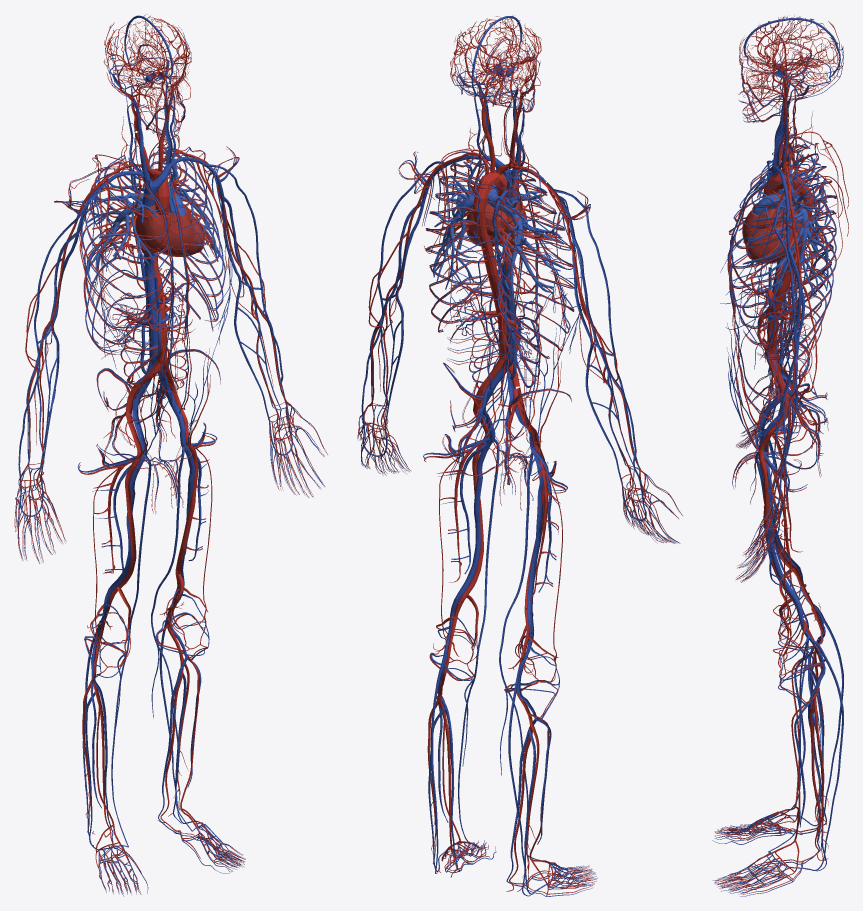
Rendered from cardio.glb.
3 views of the same model, side by side, from view 1: azimuth 30°, elevation 25°; view 2: azimuth 150°, elevation 25°; view 3: azimuth 270°, elevation 25° (orthographic). The views are drawn at different scales.
Parts seen in each view (by area): view 1: Right_superior_intercostal_vein, Posterior_intercostal_arteries|r, Left_superior_intercostal_vein, Great_saphenous_vein|l, Right_atrium, Great_saphenous_vein|r, Right_ventricle, Femoral_artery|r, Posterior_intercostal_arteries|l, Cephalic_vein|r, Femoral_artery|l, Cephalic_vein|l (+2 smaller); view 2: Right_superior_intercostal_vein, Posterior_intercostal_arteries|r, Left_superior_intercostal_vein, Posterior_intercostal_arteries|l, Great_saphenous_vein|l, Great_saphenous_vein|r, Femoral_vein|l, Femoral_vein|r, Thoracic_aorta, Cephalic_vein|r, Femoral_artery|l, Basilic_vein|r (+4 smaller); view 3: Left_superior_intercostal_vein, Posterior_intercostal_arteries|l, Cephalic_vein|l, Right_superior_intercostal_vein, Left_ventricle, Small_saphenous_vein|l, Femoral_artery|l, Abdominal_aorta, Great_saphenous_vein|r, Small_saphenous_vein|r, Great_saphenous_vein|l, Posterior_intercostal_arteries|r (+24 smaller).
Part boxes in pixels (left/top/right/bottom): Right_superior_intercostal_vein: left=81, top=155, right=172, bottom=351; Posterior_intercostal_arteries|r: left=79, top=163, right=169, bottom=354; Left_superior_intercostal_vein: left=144, top=147, right=225, bottom=329; Great_saphenous_vein|l: left=151, top=446, right=192, bottom=831; Right_atrium: left=135, top=205, right=170, bottom=254; Great_saphenous_vein|r: left=111, top=454, right=151, bottom=846; Right_ventricle: left=155, top=211, right=197, bottom=256; Femoral_artery|r: left=115, top=432, right=142, bottom=589; Posterior_intercostal_arteries|l: left=149, top=153, right=225, bottom=331; Cephalic_vein|r: left=18, top=188, right=101, bottom=487; Femoral_artery|l: left=175, top=419, right=198, bottom=575; Cephalic_vein|l: left=202, top=162, right=289, bottom=422; Right_superior_intercostal_vein: left=492, top=170, right=574, bottom=357; Posterior_intercostal_arteries|r: left=478, top=188, right=574, bottom=358; Left_superior_intercostal_vein: left=425, top=156, right=502, bottom=331; Posterior_intercostal_arteries|l: left=425, top=177, right=502, bottom=332; Great_saphenous_vein|l: left=458, top=439, right=499, bottom=845; Great_saphenous_vein|r: left=499, top=447, right=539, bottom=859; Femoral_vein|l: left=459, top=423, right=495, bottom=594; Femoral_vein|r: left=527, top=432, right=543, bottom=611; Thoracic_aorta: left=473, top=196, right=497, bottom=275; Cephalic_vein|r: left=554, top=189, right=643, bottom=496; Femoral_artery|l: left=462, top=419, right=489, bottom=598; Basilic_vein|r: left=572, top=237, right=622, bottom=483; Left_superior_intercostal_vein: left=729, top=163, right=836, bottom=358; Posterior_intercostal_arteries|l: left=729, top=175, right=836, bottom=359; Cephalic_vein|l: left=774, top=197, right=796, bottom=518; Right_superior_intercostal_vein: left=729, top=144, right=836, bottom=304; Left_ventricle: left=748, top=224, right=794, bottom=263; Small_saphenous_vein|l: left=803, top=640, right=843, bottom=870; Femoral_artery|l: left=759, top=431, right=793, bottom=601; Abdominal_aorta: left=764, top=266, right=793, bottom=354; Great_saphenous_vein|r: left=755, top=430, right=820, bottom=820; Small_saphenous_vein|r: left=803, top=604, right=843, bottom=826; Great_saphenous_vein|l: left=755, top=452, right=820, bottom=851; Posterior_intercostal_arteries|r: left=729, top=153, right=836, bottom=308.
Bounding box in the file's own units: 0.6809 × 1.74 × 0.2553.
